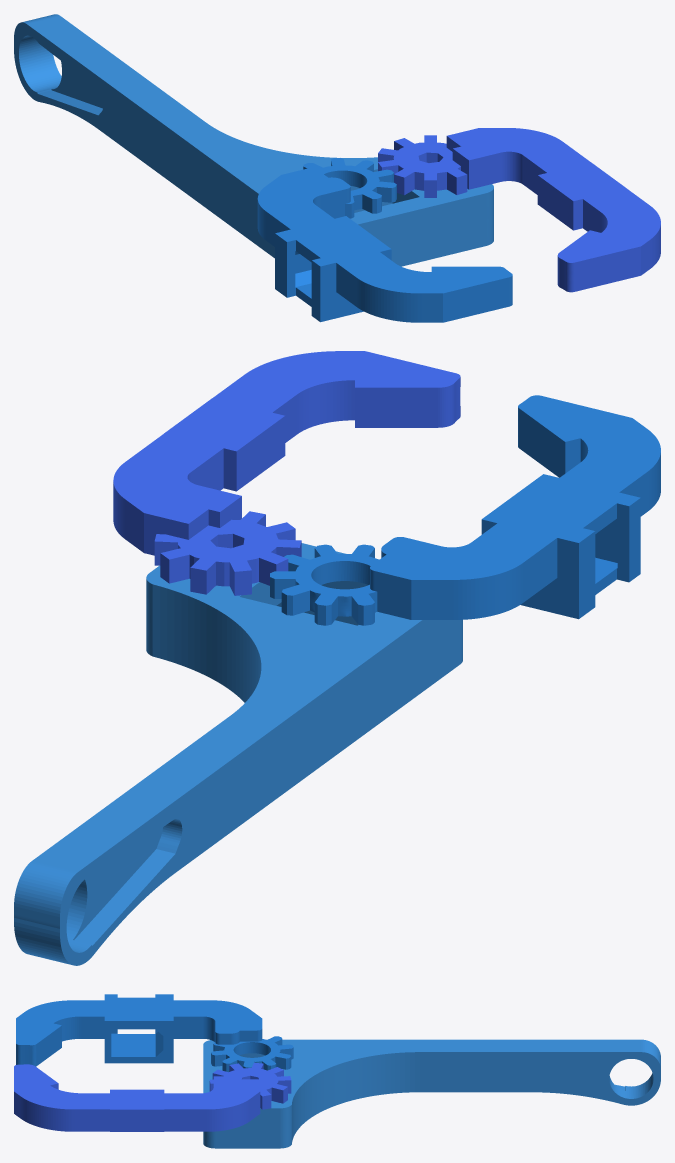
The model's file is braco_azul.dae.
3 renders of one model, top to bottom at view 1: azimuth 30°, elevation 25°; view 2: azimuth 150°, elevation 25°; view 3: azimuth 270°, elevation 25°, orthographic. The views are drawn at different scales.
Parts seen in each view (by area): view 1: Garra-Braco, Garra-Direita, Garra-Esquerda; view 2: Garra-Braco, Garra-Direita, Garra-Esquerda; view 3: Garra-Braco, Garra-Direita, Garra-Esquerda.
Part boxes in pixels (box(x1,y1,x2,y2)): Garra-Braco: box(14, 14, 493, 266); Garra-Direita: box(257, 158, 512, 322); Garra-Esquerda: box(378, 128, 660, 292); Garra-Braco: box(14, 543, 462, 965); Garra-Direita: box(270, 395, 660, 625); Garra-Esquerda: box(113, 351, 460, 595); Garra-Braco: box(203, 1039, 660, 1148); Garra-Direita: box(16, 994, 293, 1072); Garra-Esquerda: box(14, 1062, 291, 1131).
Size of the model in its own units: 5.53 by 13.13 by 1.72.
